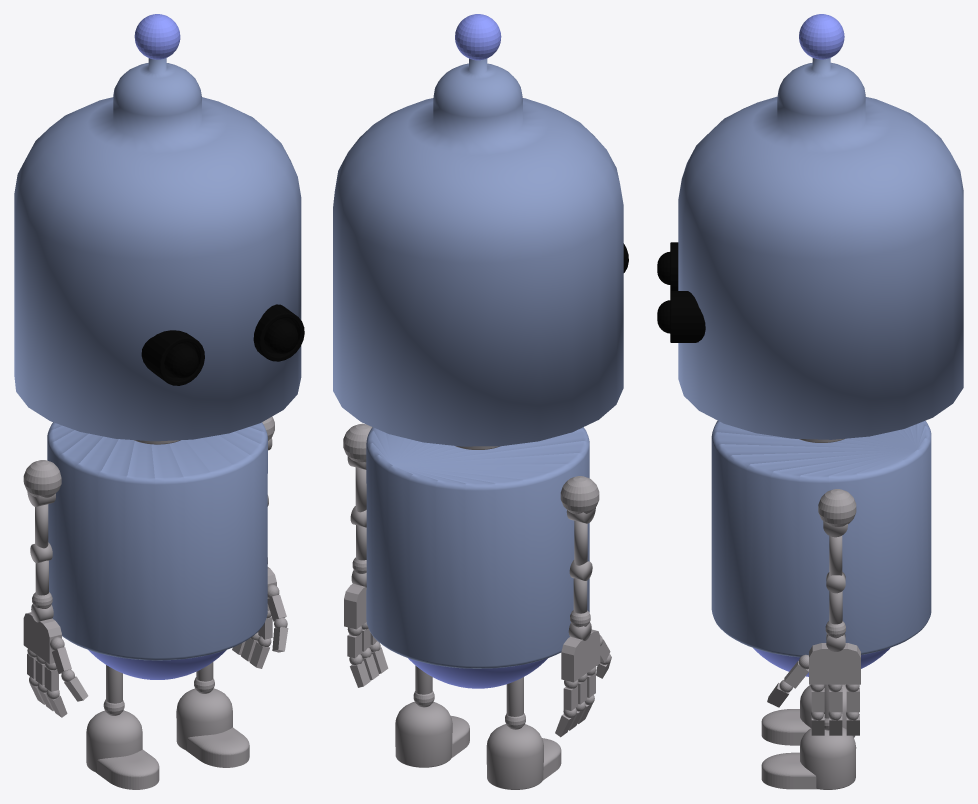
File: _Abgabe_Gruppe_7_Projekt_3_Blender.fbx
3 views of the same model, side by side, from view 1: azimuth 30°, elevation 25°; view 2: azimuth 150°, elevation 25°; view 3: azimuth 270°, elevation 25° (orthographic).
Visible parts, largest first — view 1: Antenne, body, Arme.046, fuß2, fuß1, Arme.023, Arme.026, unterteil, zehen1, zehen2, Arme.028, bein1; view 2: Antenne, body, Arme.046, fuß2, fuß1, Arme.023, Arme.026, unterteil, Arme.002, Arme.028, bein1, zehen1 (+1 smaller); view 3: Antenne, body, Arme.023, fuß2, Arme.002, zehen2, zehen1, unterteil, fuß1.
Part boxes in pixels (left/top/right/bottom): Antenne: left=14, top=14, right=304, bottom=441; body: left=47, top=422, right=267, bottom=660; Arme.046: left=23, top=592, right=88, bottom=717; fuß2: left=176, top=688, right=232, bottom=750; fuß1: left=86, top=710, right=142, bottom=772; Arme.023: left=232, top=557, right=288, bottom=668; Arme.026: left=23, top=460, right=61, bottom=548; unterteil: left=88, top=650, right=226, bottom=679; zehen1: left=96, top=749, right=159, bottom=789; zehen2: left=186, top=727, right=249, bottom=767; Arme.028: left=30, top=542, right=52, bottom=595; bein1: left=106, top=665, right=122, bottom=703; Antenne: left=333, top=14, right=628, bottom=446; body: left=366, top=427, right=589, bottom=668; Arme.046: left=555, top=610, right=611, bottom=737; fuß2: left=395, top=702, right=452, bottom=767; fuß1: left=486, top=724, right=543, bottom=789; Arme.023: left=344, top=570, right=388, bottom=687; Arme.026: left=560, top=476, right=599, bottom=565; unterteil: left=408, top=658, right=547, bottom=688; Arme.002: left=343, top=423, right=372, bottom=512; Arme.028: left=569, top=560, right=592, bottom=613; bein1: left=506, top=677, right=523, bottom=716; zehen1: left=542, top=738, right=561, bottom=780; Antenne: left=657, top=14, right=963, bottom=439; body: left=711, top=420, right=931, bottom=657; Arme.023: left=767, top=634, right=860, bottom=735; fuß2: left=800, top=727, right=856, bottom=789; Arme.002: left=818, top=489, right=856, bottom=575; zehen2: left=761, top=752, right=817, bottom=789; zehen1: left=761, top=709, right=810, bottom=745; unterteil: left=753, top=648, right=889, bottom=676; fuß1: left=800, top=684, right=854, bottom=737.
Bounding box in the file's own units: 196 × 557 × 210.
